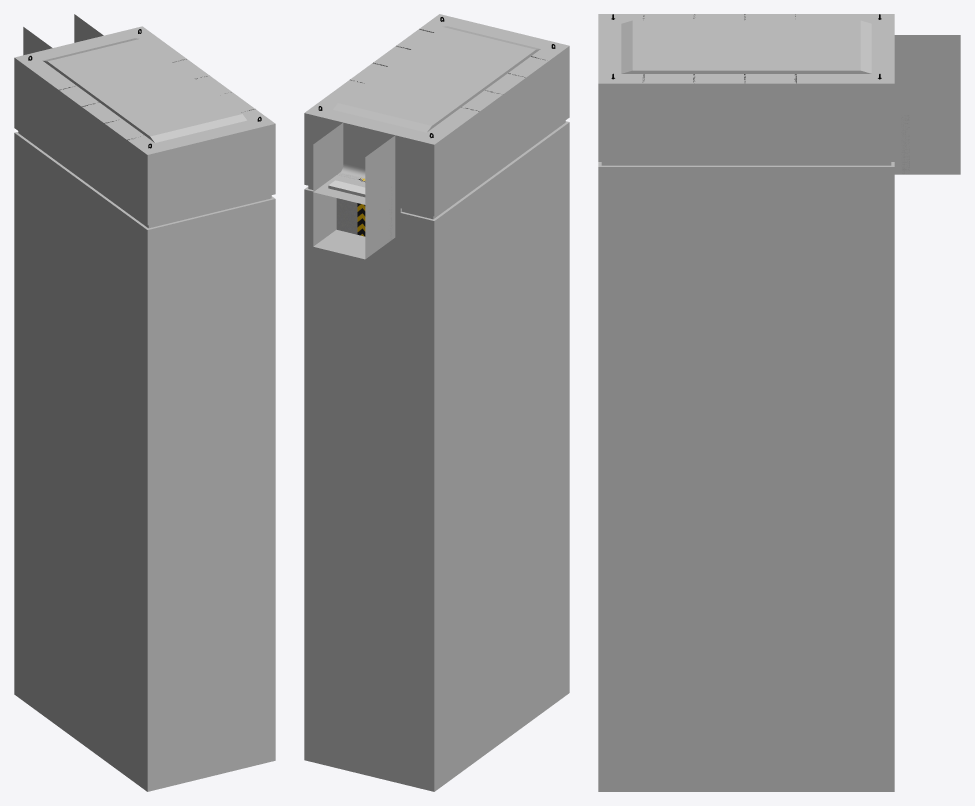
File: 电梯+开关门动画.fbx
3 renders of one model, left to right at view 1: azimuth 30°, elevation 25°; view 2: azimuth 150°, elevation 25°; view 3: azimuth 270°, elevation 25°, orthographic. The views are drawn at different scales.
Parts seen in each view (by area): view 1: 电梯_房间主体.001; view 2: 电梯_房间主体.001, 电梯_电梯门_2_r; view 3: 电梯_房间主体.001.
Part boxes in pixels (x1,y1,x2,y2): 电梯_房间主体.001: [14, 14, 275, 791]; 电梯_房间主体.001: [304, 14, 569, 791]; 电梯_电梯门_2_r: [336, 173, 364, 235]; 电梯_房间主体.001: [598, 14, 960, 791].
Bounding box in the file's own units: 1000 × 4783 × 2200.
